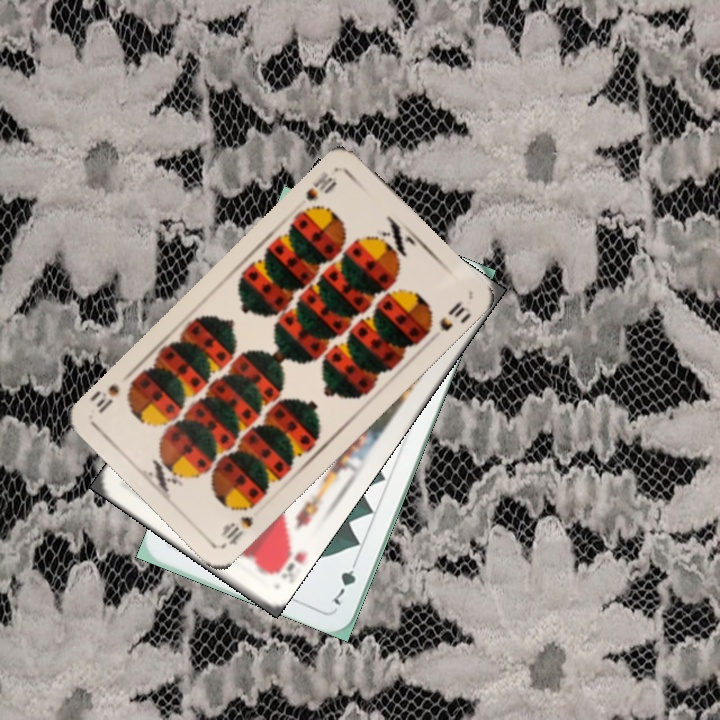G7: (329, 553, 361, 608)
HK: (265, 535, 298, 584)
S10: (217, 511, 257, 548), (302, 167, 339, 204)
